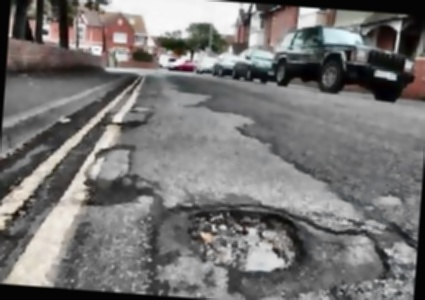pothole: (177, 200, 310, 278)
